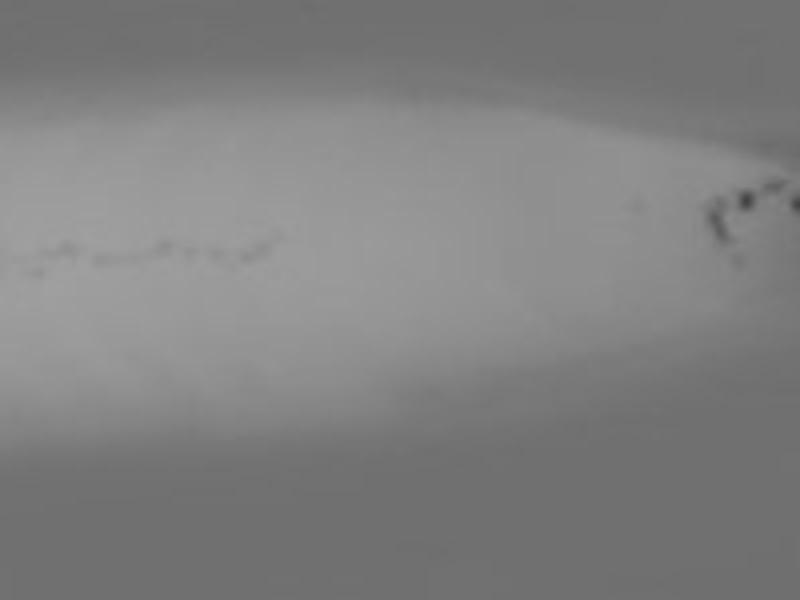defect: (706, 198, 732, 245), (756, 175, 787, 193), (252, 240, 278, 261), (733, 188, 755, 211), (61, 241, 80, 265), (154, 240, 176, 260), (237, 245, 254, 269), (182, 243, 197, 263), (789, 189, 799, 217), (30, 265, 49, 279)
